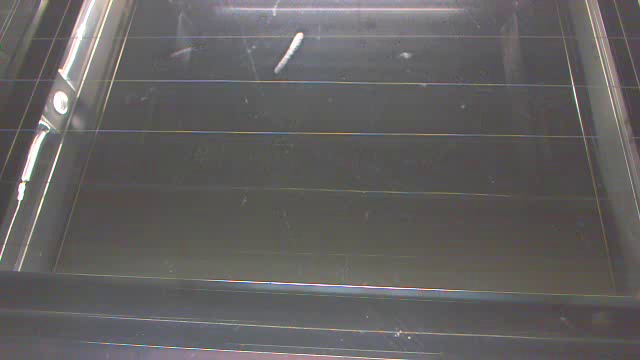alpha: (274, 32, 303, 73)
